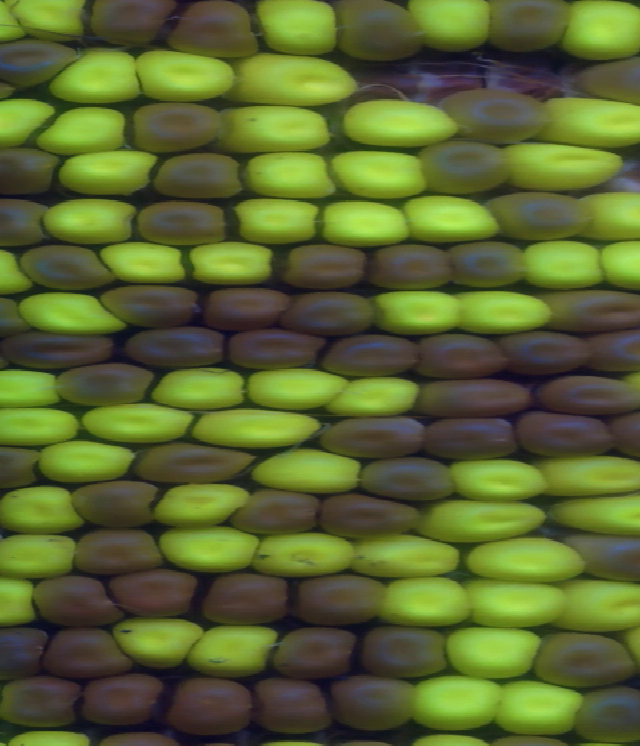fluorescent: (224, 47, 366, 110), (325, 144, 438, 208), (50, 49, 152, 111), (111, 611, 211, 674), (549, 573, 640, 642), (503, 140, 626, 191), (159, 521, 269, 576), (193, 404, 321, 450), (130, 48, 234, 104), (458, 576, 572, 627), (345, 532, 469, 578), (345, 99, 459, 149), (251, 446, 366, 495), (444, 624, 544, 680), (492, 681, 592, 737), (215, 106, 334, 153), (424, 498, 551, 542), (191, 619, 278, 683), (243, 1, 347, 54), (465, 536, 586, 581), (15, 291, 132, 337), (39, 196, 150, 244), (410, 673, 501, 731), (407, 1, 496, 59), (554, 1, 640, 61), (381, 575, 480, 627), (246, 150, 339, 205), (77, 399, 192, 443), (453, 289, 556, 338), (252, 529, 355, 578), (0, 483, 89, 539), (405, 195, 510, 242), (372, 289, 471, 338), (40, 106, 141, 154), (239, 366, 353, 408), (39, 439, 140, 486), (548, 95, 640, 146), (59, 148, 161, 194), (325, 196, 414, 248), (516, 243, 611, 291), (178, 244, 288, 285), (0, 534, 85, 587), (449, 460, 551, 503), (531, 456, 640, 495), (97, 240, 189, 284), (325, 372, 421, 414), (232, 199, 321, 244), (156, 484, 250, 526), (8, 1, 94, 45), (554, 495, 640, 538), (0, 404, 76, 450), (155, 371, 247, 406), (0, 96, 59, 149), (0, 371, 76, 409), (583, 191, 640, 240), (599, 240, 640, 296), (0, 571, 38, 628)
nonfluorescent: (426, 91, 559, 144), (482, 1, 582, 63), (404, 371, 537, 417), (167, 1, 262, 61), (480, 195, 601, 241), (334, 1, 426, 60), (164, 676, 254, 736), (516, 404, 617, 457), (325, 671, 417, 729), (444, 240, 540, 295), (536, 634, 632, 689), (48, 624, 139, 682), (360, 454, 464, 504), (253, 676, 336, 738), (30, 571, 118, 629), (99, 283, 212, 328), (74, 526, 173, 577), (421, 414, 530, 460), (49, 361, 157, 407), (416, 329, 511, 381), (361, 627, 456, 679), (532, 373, 640, 418), (418, 142, 513, 193), (222, 327, 330, 371), (283, 289, 383, 336), (143, 439, 252, 482), (1, 331, 121, 370), (206, 573, 294, 626), (230, 482, 325, 531), (294, 576, 385, 627), (321, 417, 434, 458), (76, 670, 165, 721), (499, 330, 597, 376), (324, 334, 431, 376), (130, 100, 227, 146), (276, 626, 360, 679), (318, 493, 424, 535), (366, 239, 453, 290), (139, 199, 232, 246), (200, 284, 296, 329), (124, 325, 234, 364), (104, 570, 203, 613), (0, 676, 83, 727), (156, 152, 244, 200), (566, 53, 640, 110), (74, 478, 164, 524), (284, 244, 371, 291), (566, 527, 640, 582), (570, 686, 640, 743), (536, 290, 640, 328), (0, 38, 79, 88), (20, 246, 116, 287), (85, 1, 171, 42), (0, 622, 52, 679), (0, 149, 59, 191), (0, 199, 50, 246), (0, 442, 43, 489), (593, 328, 640, 369), (0, 292, 36, 339)
